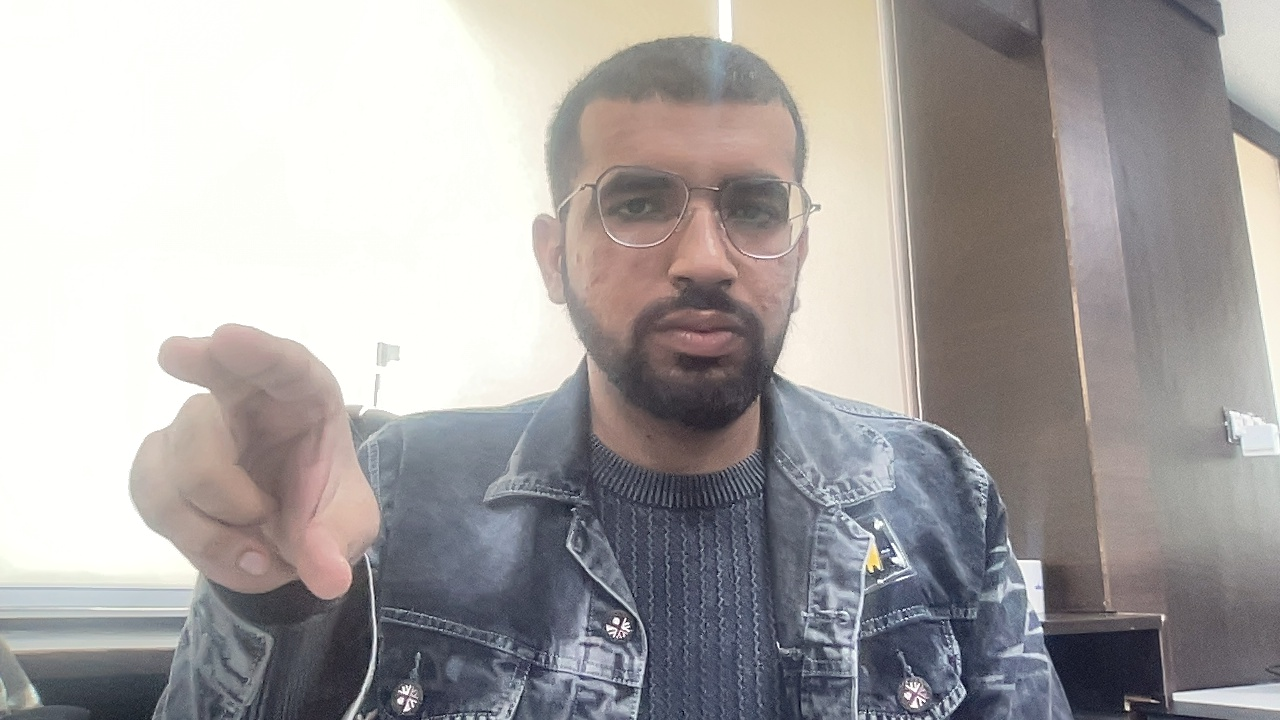No: (70, 299, 409, 632)
